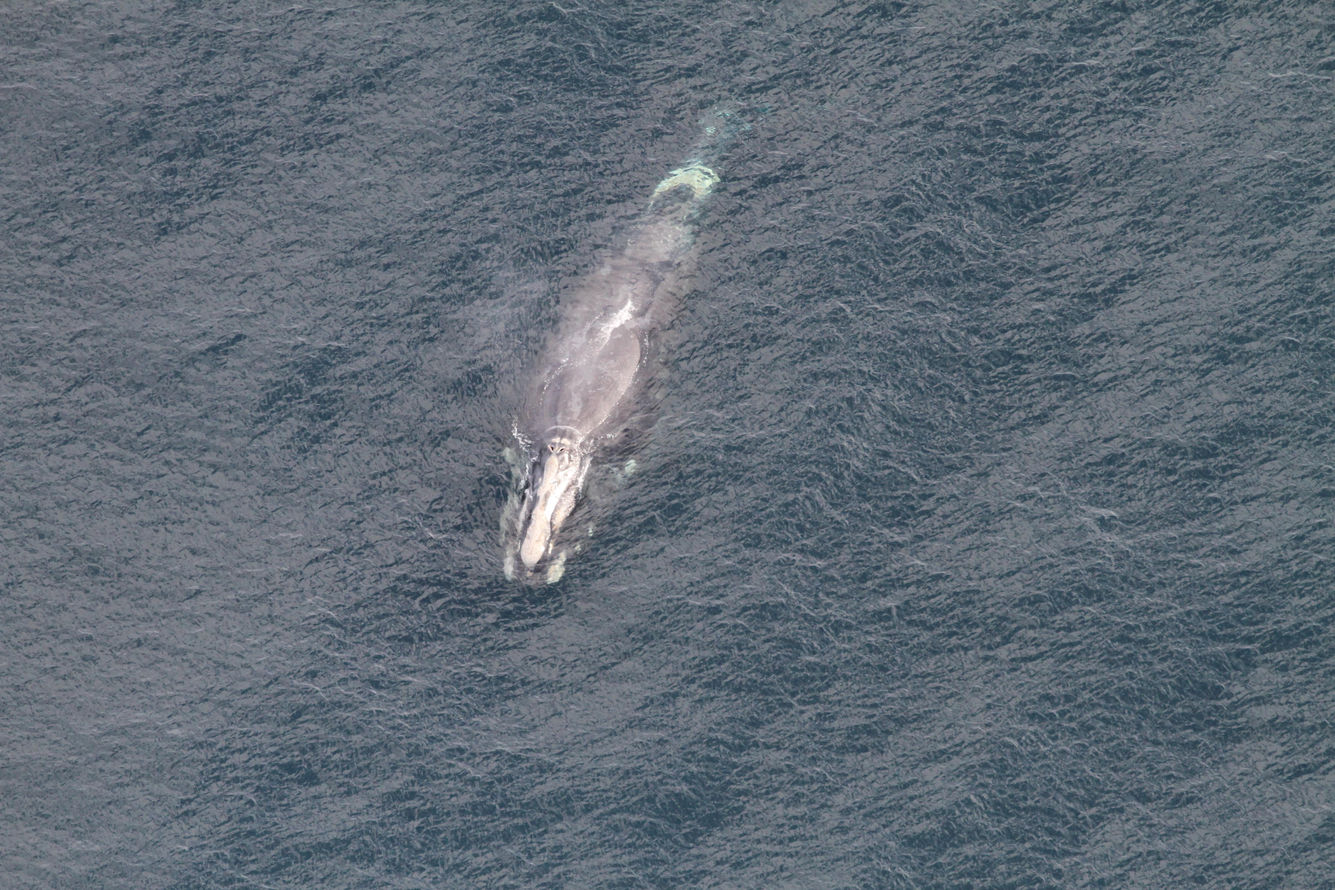whale: (481, 87, 756, 600)
